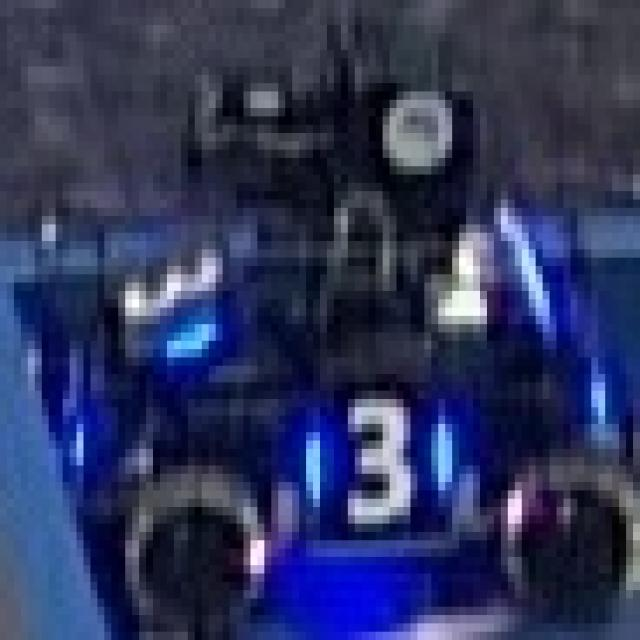B3: (282, 357, 456, 532), (98, 212, 244, 378)
